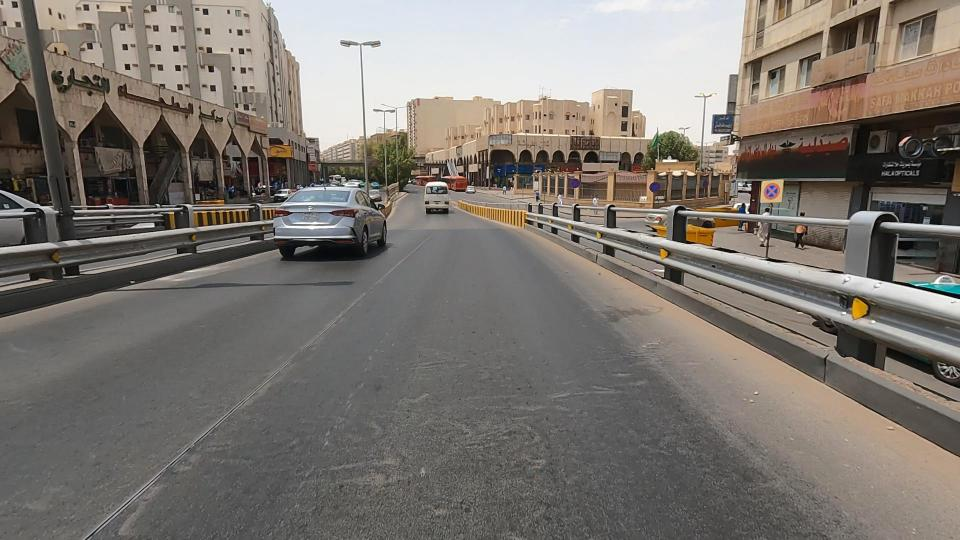BAD_BILLBOARD: (464, 118, 533, 162)
